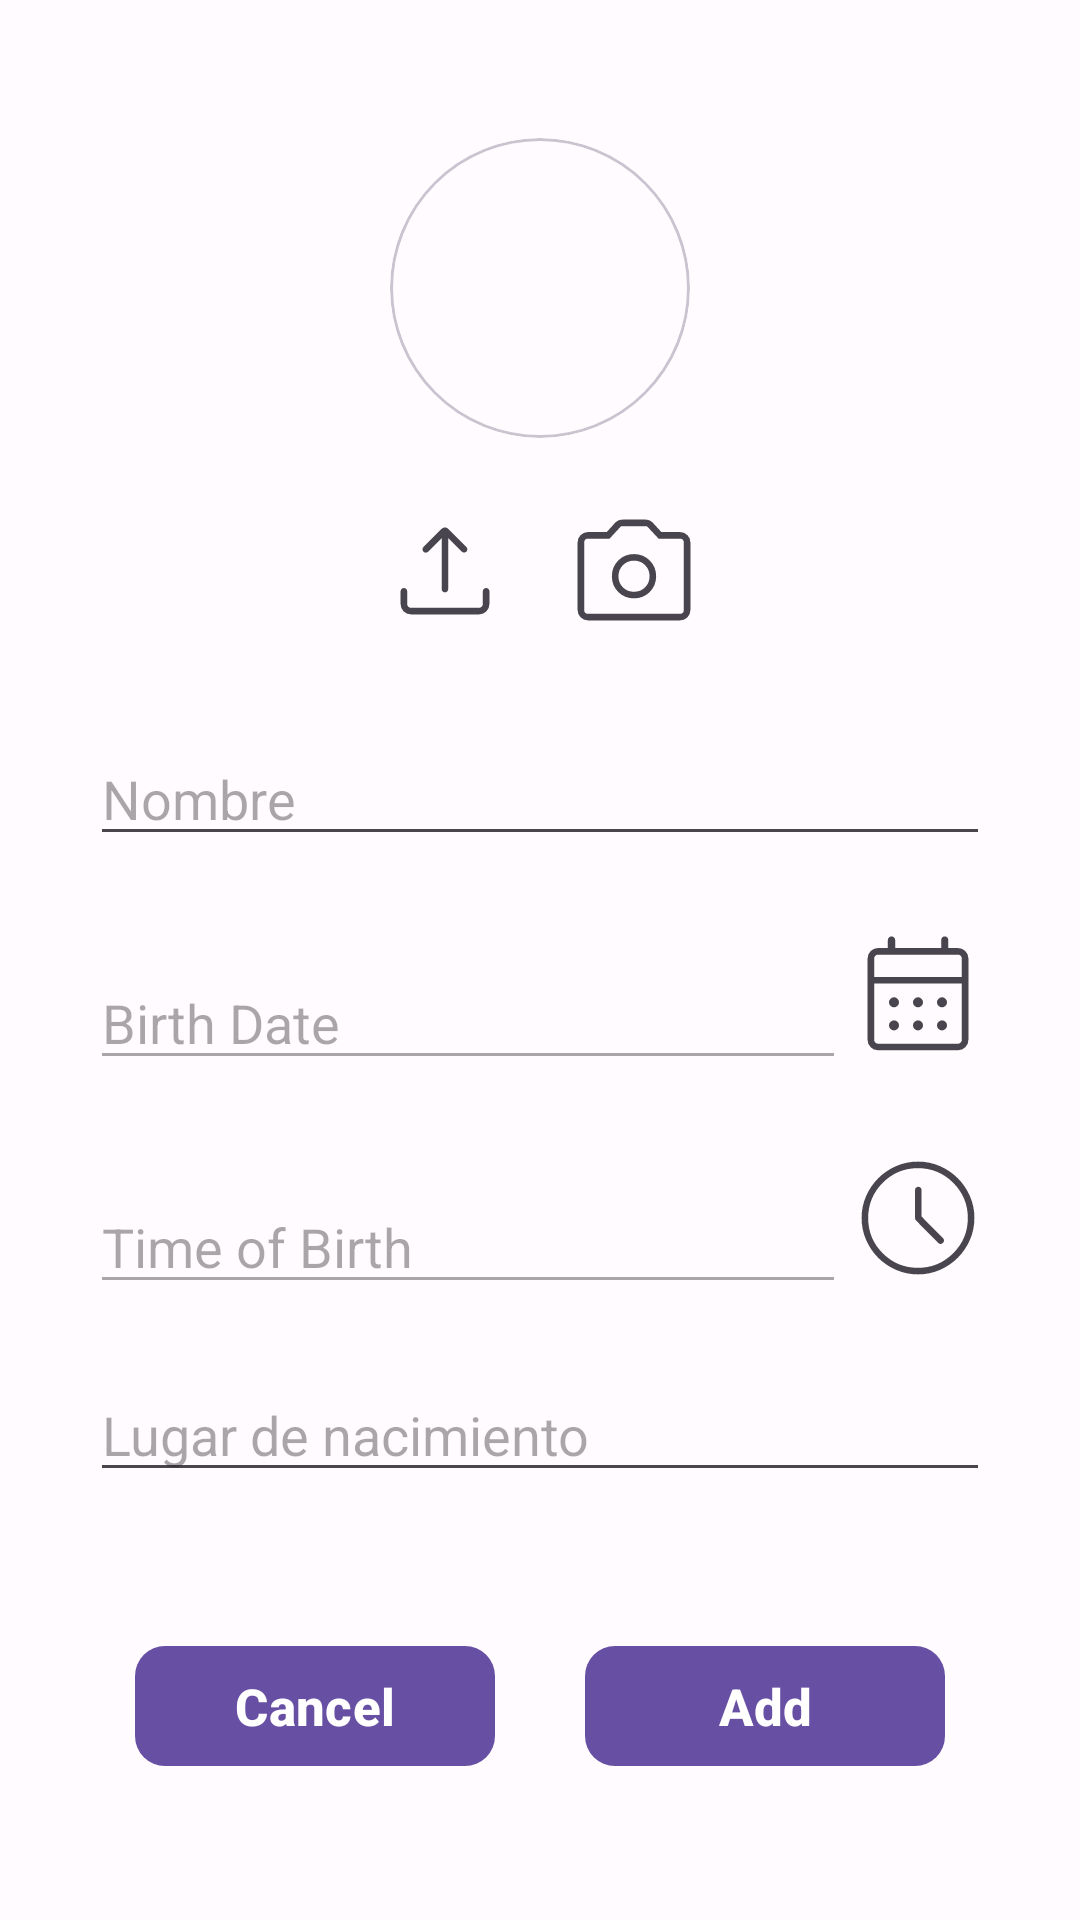

Icons on this 1080 × 1920 Android screen, each with the point to tap as point (x, y):
camera: point (634, 570)
upload: point (445, 571)
